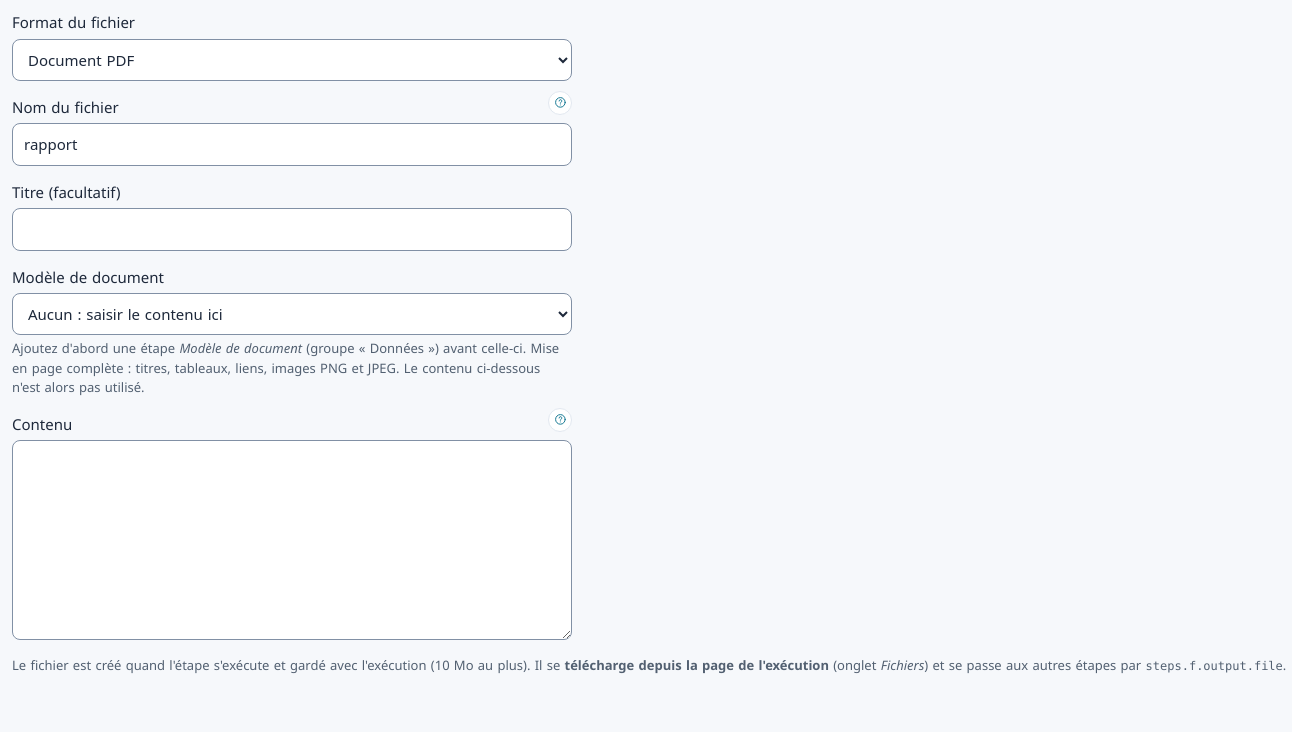
Test: Créer un fichier › explique ce que chaque format reprend du modèle, et invite à en ajouter un s'il n'y en a pas
This screenshot has width=1292, height=732.
Expected: the text "Ajoutez d'abord une étape" is shown, [12, 339, 179, 357]
Expected: the text "Mise en page complète" is shown, [12, 339, 559, 396]
Select "Document Word (.docx)" in the dropdown labelled "Format du fichier" at (292, 60), box [12, 38, 572, 80]
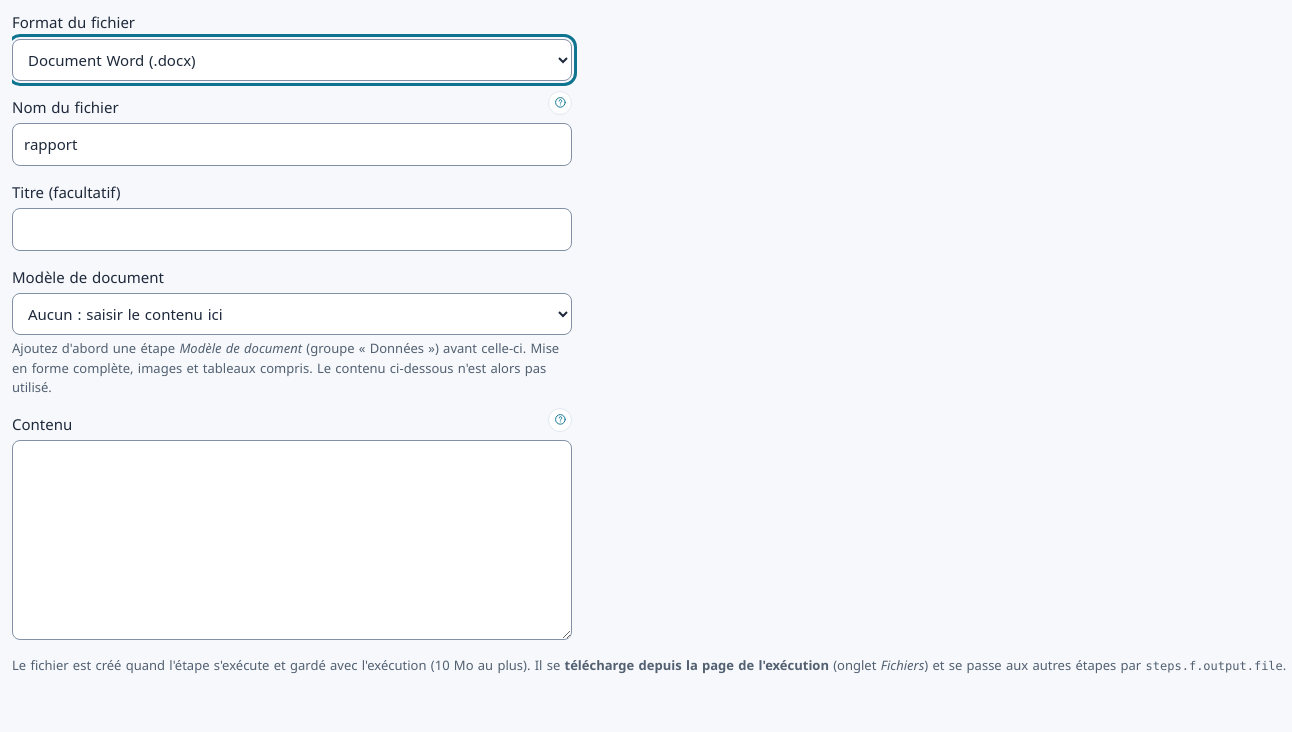
Expected: the text "images et tableaux compris" is shown, [12, 339, 559, 396]
